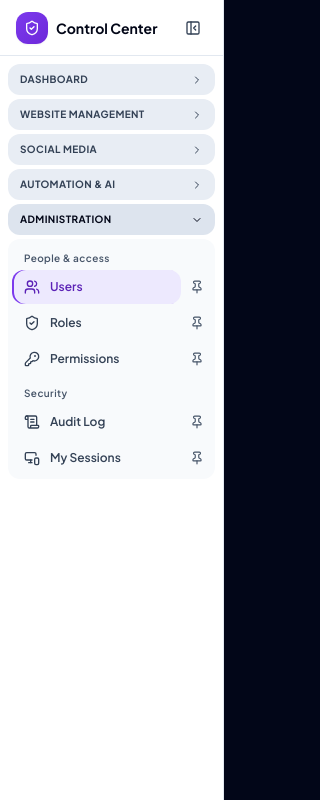
Test case: Sidebar accordion › keeps only one section open: opening another closes the section holding the current page
Step 1. Click the button "Social Media" → {"x": 112, "y": 150}, box 8,134 -> 215,165
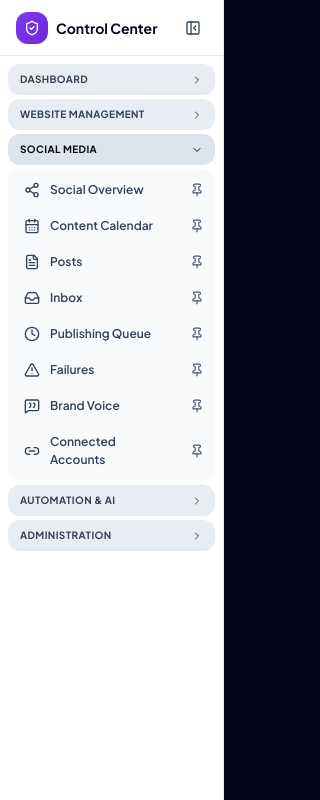
expect the button "Administration" is collapsed: met, box 8,520 -> 215,551
